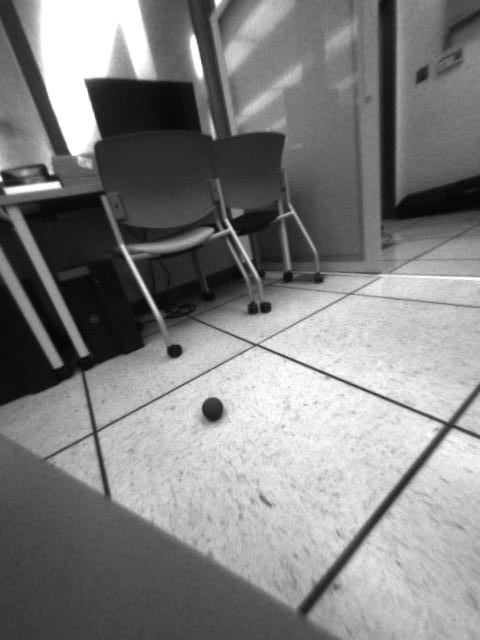dogtoy: (196, 390, 230, 425)
